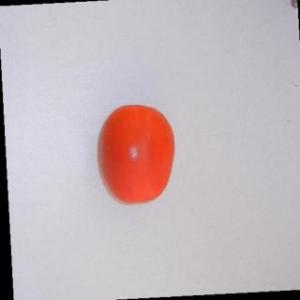tomato: (92, 98, 184, 212)
